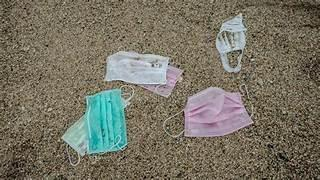Mask: (62, 85, 133, 165), (163, 87, 252, 136), (85, 89, 126, 153), (105, 51, 168, 83), (216, 14, 245, 72), (140, 65, 182, 96), (62, 116, 87, 165), (62, 116, 88, 156), (120, 85, 134, 107)
